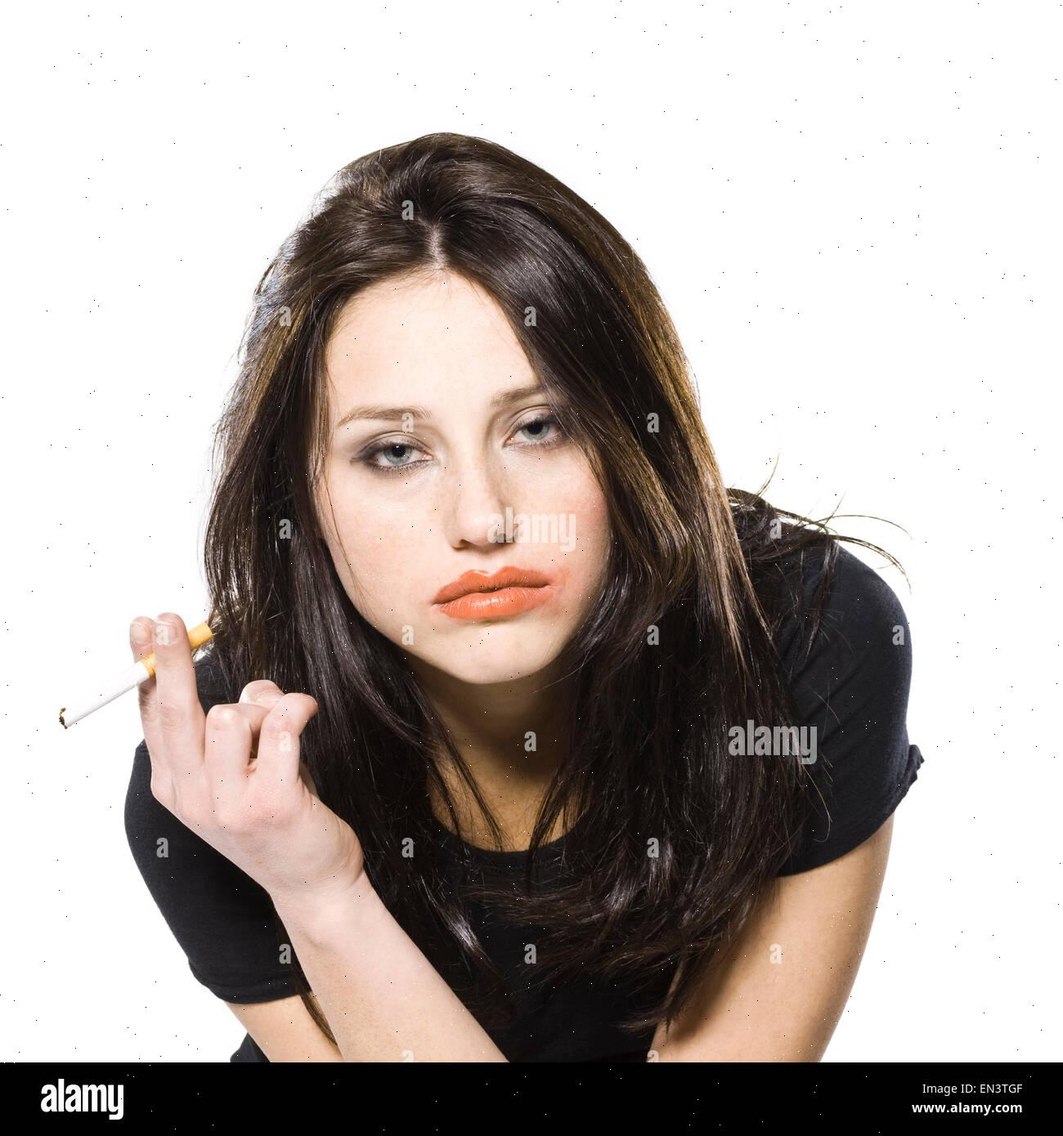cigarette: (59, 651, 155, 727)
